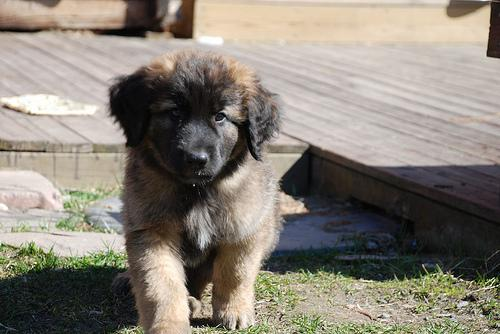dog-leonberger: (108, 47, 275, 184)
